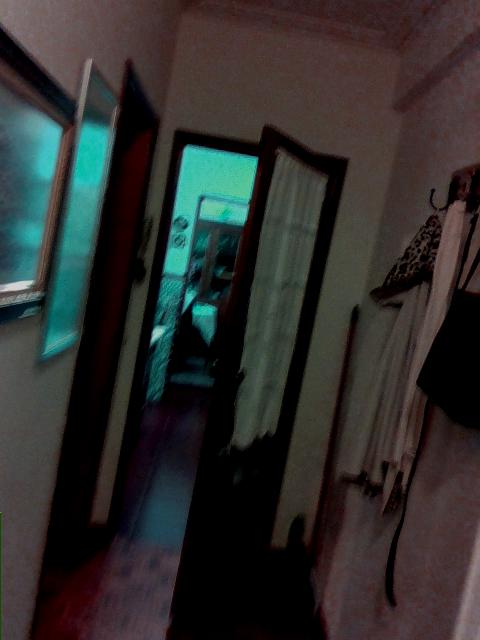semi_door: (104, 122, 350, 617)
